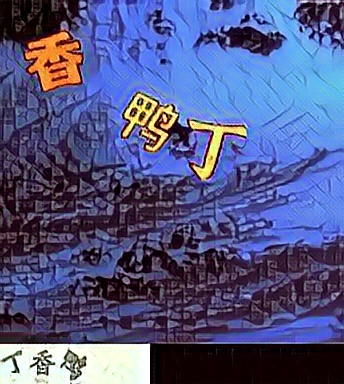B6A1: (185, 115, 248, 181)
CFE3: (24, 30, 87, 96)
D1BC: (117, 88, 180, 154)
